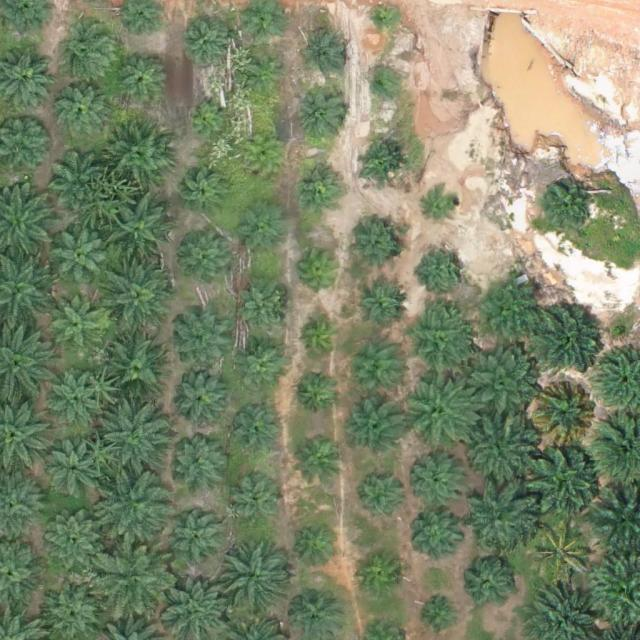Grass: (525, 516, 596, 587)
Healthy: (402, 370, 480, 449), (217, 541, 295, 620), (529, 298, 607, 377), (525, 444, 603, 523), (464, 411, 542, 490), (463, 477, 541, 556), (459, 348, 537, 426), (406, 307, 476, 378), (100, 402, 170, 473), (95, 474, 166, 544), (475, 275, 545, 346), (105, 265, 175, 335), (98, 549, 168, 619), (410, 448, 473, 511), (110, 202, 173, 265), (343, 342, 405, 405), (105, 334, 167, 397), (58, 22, 120, 85), (107, 125, 169, 187), (40, 509, 102, 571), (179, 232, 234, 288), (348, 399, 403, 454), (409, 507, 464, 562), (233, 284, 288, 339), (234, 341, 289, 396), (228, 405, 283, 460), (233, 477, 288, 532), (176, 314, 231, 369), (174, 370, 229, 425), (172, 513, 227, 568), (46, 583, 101, 638), (49, 447, 104, 502), (55, 231, 110, 286), (49, 152, 104, 207), (115, 51, 170, 106), (459, 557, 514, 612), (170, 439, 224, 494), (47, 369, 101, 424), (50, 298, 104, 353), (181, 16, 235, 71), (57, 85, 111, 140), (300, 90, 347, 137)
Small: (352, 221, 407, 276), (354, 281, 409, 336), (540, 183, 595, 238), (300, 29, 347, 77), (357, 142, 404, 190), (296, 439, 343, 487), (421, 244, 468, 292), (180, 169, 227, 216), (241, 209, 288, 256), (295, 164, 342, 211), (299, 247, 346, 294), (294, 524, 341, 571), (357, 549, 404, 596), (293, 370, 340, 417), (362, 474, 409, 521), (297, 315, 344, 362), (424, 187, 463, 227), (186, 99, 225, 138), (249, 58, 288, 97), (420, 593, 459, 632), (369, 5, 400, 36), (366, 72, 397, 103)
Yellow: (530, 379, 600, 449), (243, 137, 282, 176)
